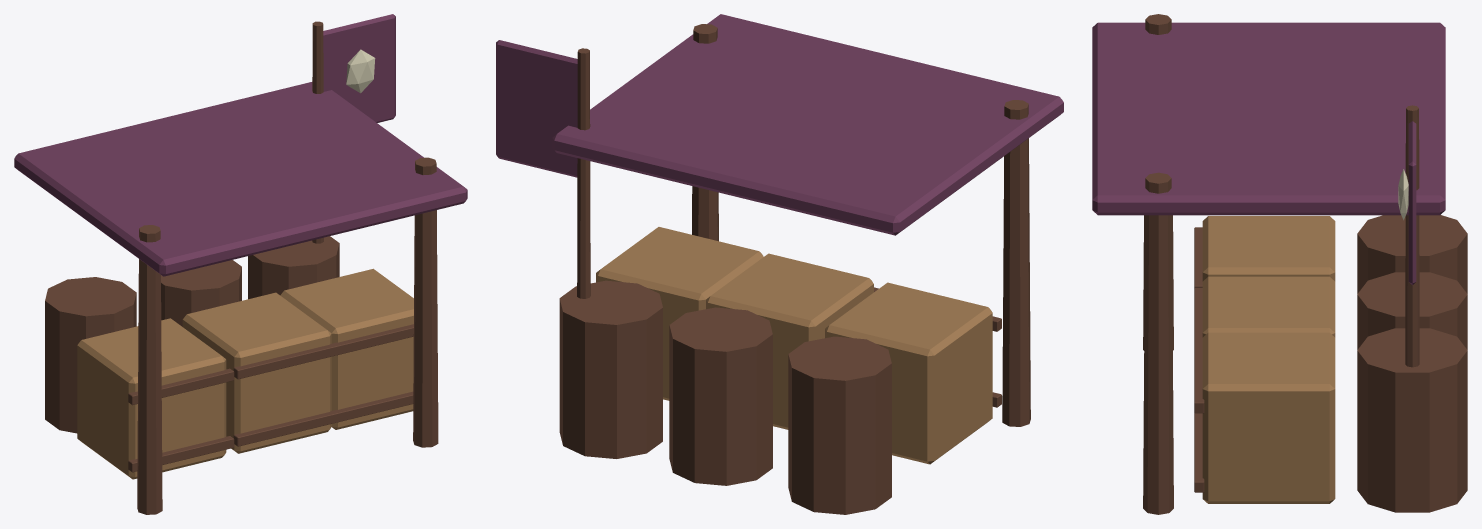
The model's file is goblin_storage.glb.
3 renders of one model, left to right at view 1: azimuth 30°, elevation 25°; view 2: azimuth 150°, elevation 25°; view 3: azimuth 270°, elevation 25°, orthographic. The views are drawn at different scales.
Visible parts, largest first — view 1: Geometry; view 2: Geometry; view 3: Geometry.
Boxes of the visible parts, x1,y1,x2,y2 form: Geometry: [14, 14, 467, 514]; Geometry: [496, 14, 1063, 514]; Geometry: [1092, 14, 1467, 514].
Bounding box in the file's own units: 2.28 × 2 × 1.7.
